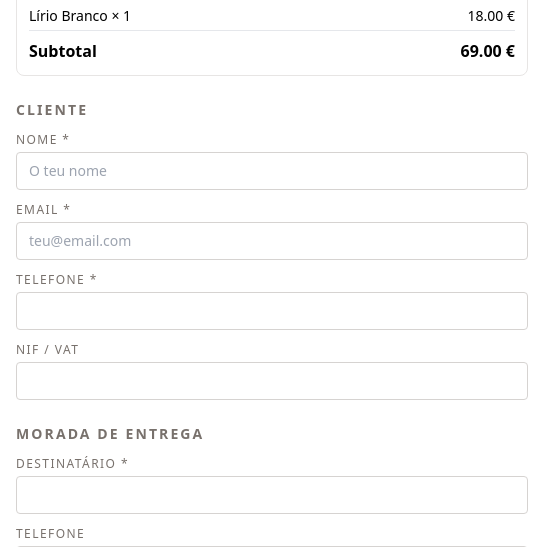
Checkout Page › 5. botão fica desativado durante submit
In the field named "Telefone" below "Email": (272, 311) left=16, top=292, right=528, bottom=330, type "+351912345678"
In the field labelled "O teu nome": (272, 171) left=16, top=152, right=528, bottom=190, type "João Silva"
In the field labelled "teu@email.com": (272, 241) left=16, top=222, right=528, bottom=260, type "joao@example.com"
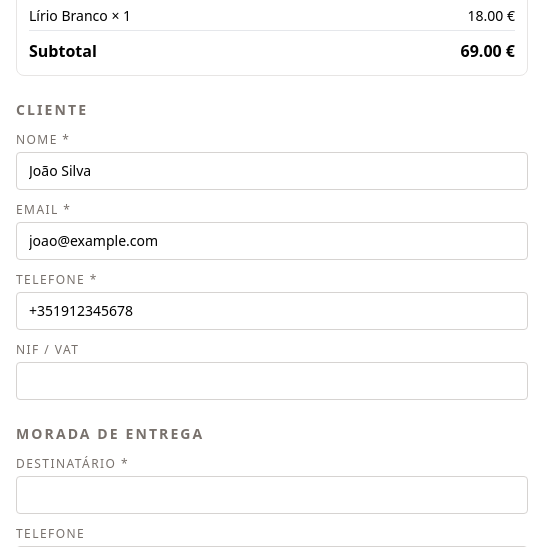
In the field named "Destinatário": (272, 495) left=16, top=476, right=528, bottom=514, type "João Silva"
(page scrolled)
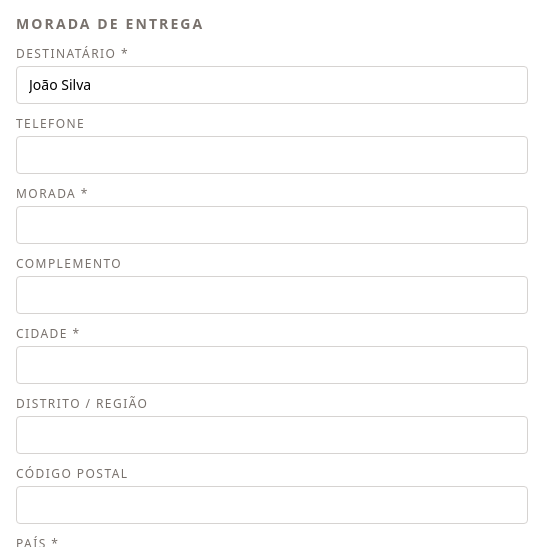
In the field named "Morada": (272, 225) left=16, top=206, right=528, bottom=244, type "Rua das Flores, 123"
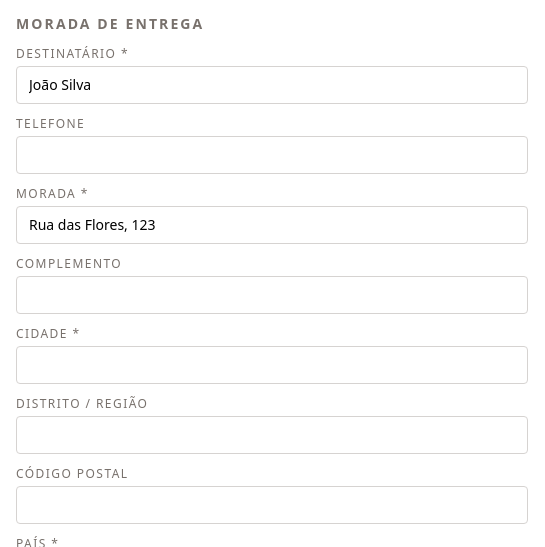
In the field named "Cidade": (272, 365) left=16, top=346, right=528, bottom=384, type "Lisboa"
(page scrolled)
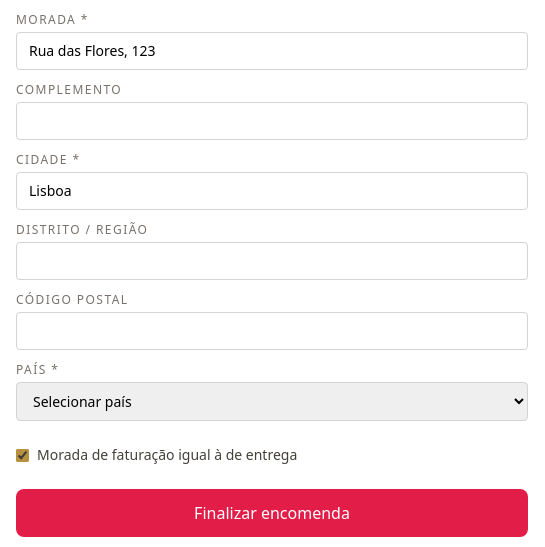
Select "Portugal" in the dropdown named "País": (272, 402) left=16, top=382, right=528, bottom=421
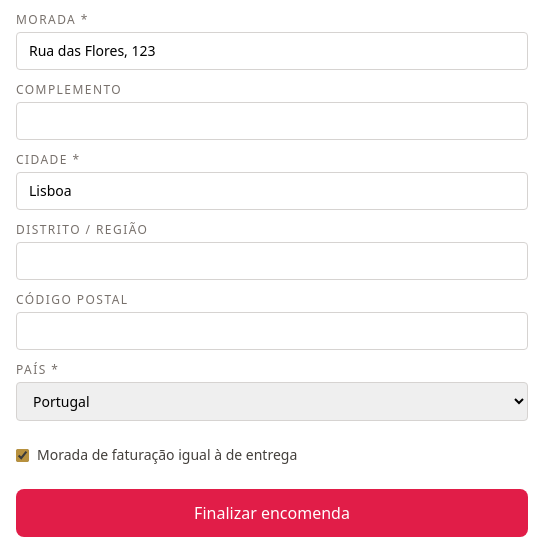
Click the button "Finalizar encomenda": (272, 513) left=16, top=489, right=528, bottom=537
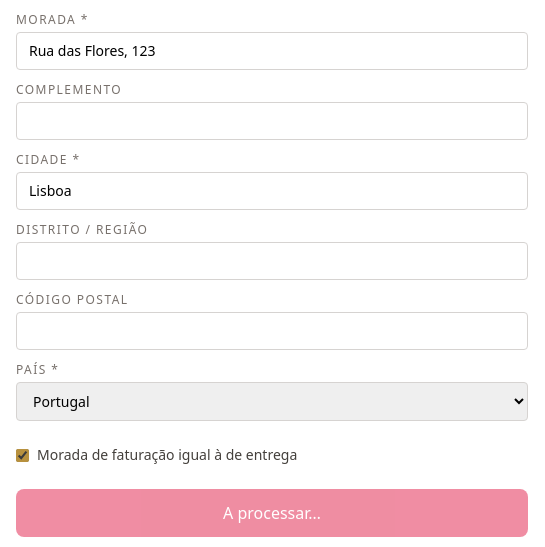
Result: the button "A processar…" is disabled at left=16, top=489, right=528, bottom=537
